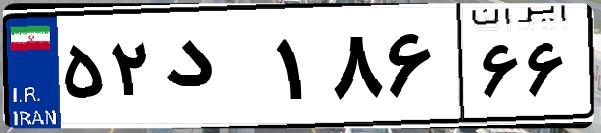1: (270, 28, 330, 110)
2: (110, 28, 158, 98)
5: (57, 26, 110, 100)
6: (385, 28, 445, 110), (475, 38, 525, 113), (525, 38, 570, 115)
8: (330, 28, 385, 110)
د: (158, 20, 270, 120)
